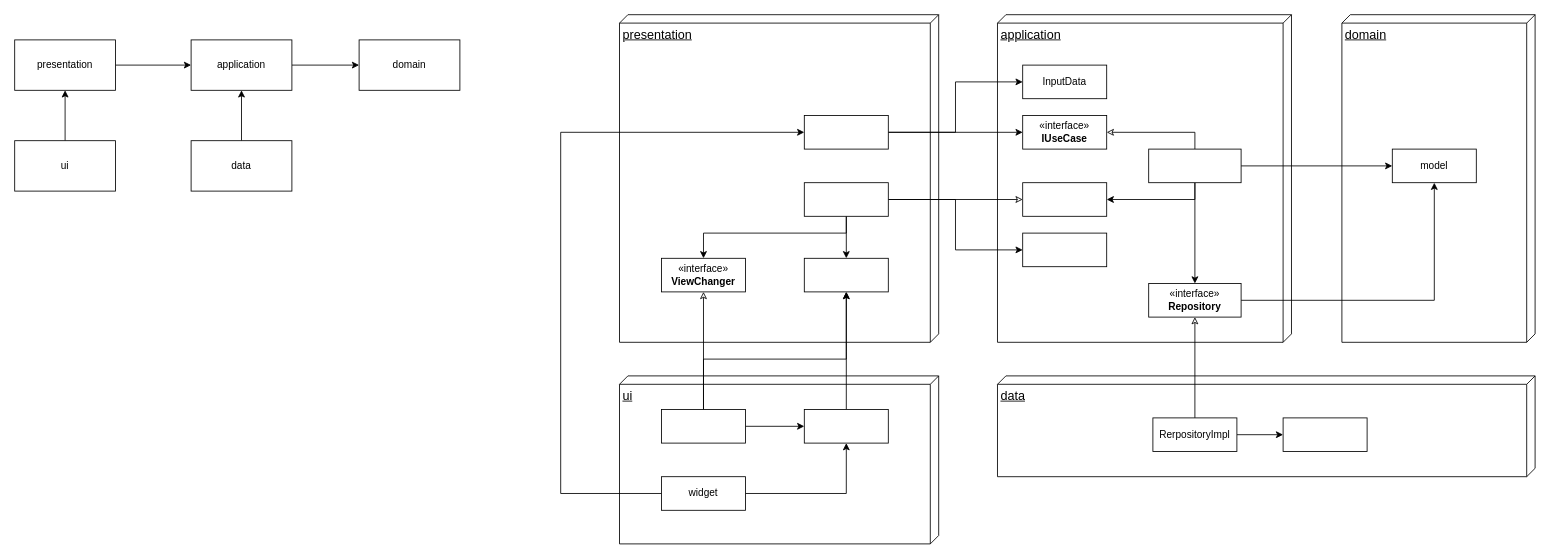
Image size: 1550x559. Some labels were removed from this diagram. Here are the shapes that lost their labels. From the top down, the box of each, then its label:
(803, 115, 888, 149): Controller
(1148, 148, 1241, 183): UseCase
(803, 182, 888, 216): Presenter
(1022, 182, 1107, 216): «interface» IPresenter
(1022, 232, 1107, 267): OutputData
(803, 257, 888, 292): ViewModel
(661, 409, 746, 443): ViewChangerImpl
(803, 409, 888, 443): Provider
(1282, 417, 1367, 452): localdata
